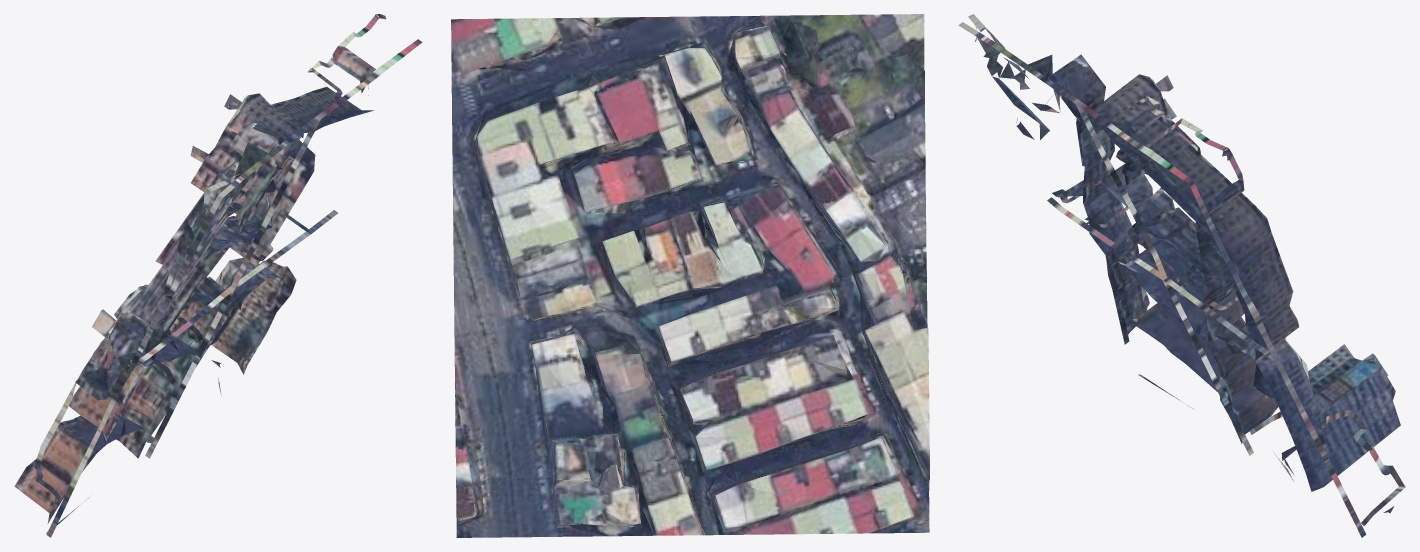
The picture shows the model from 3 angles, left to right: view 1: azimuth 30°, elevation 25°; view 2: azimuth 150°, elevation 25°; view 3: azimuth 270°, elevation 25°; orthographic projection. The views are drawn at different scales.
Size of the model in its own units: 156 by 146 by 141.
1 material, 1 textured.
